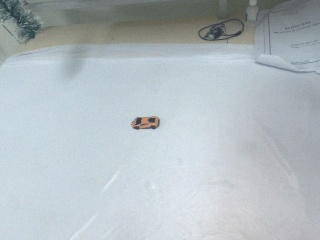toy_car: (130, 113, 163, 132)
